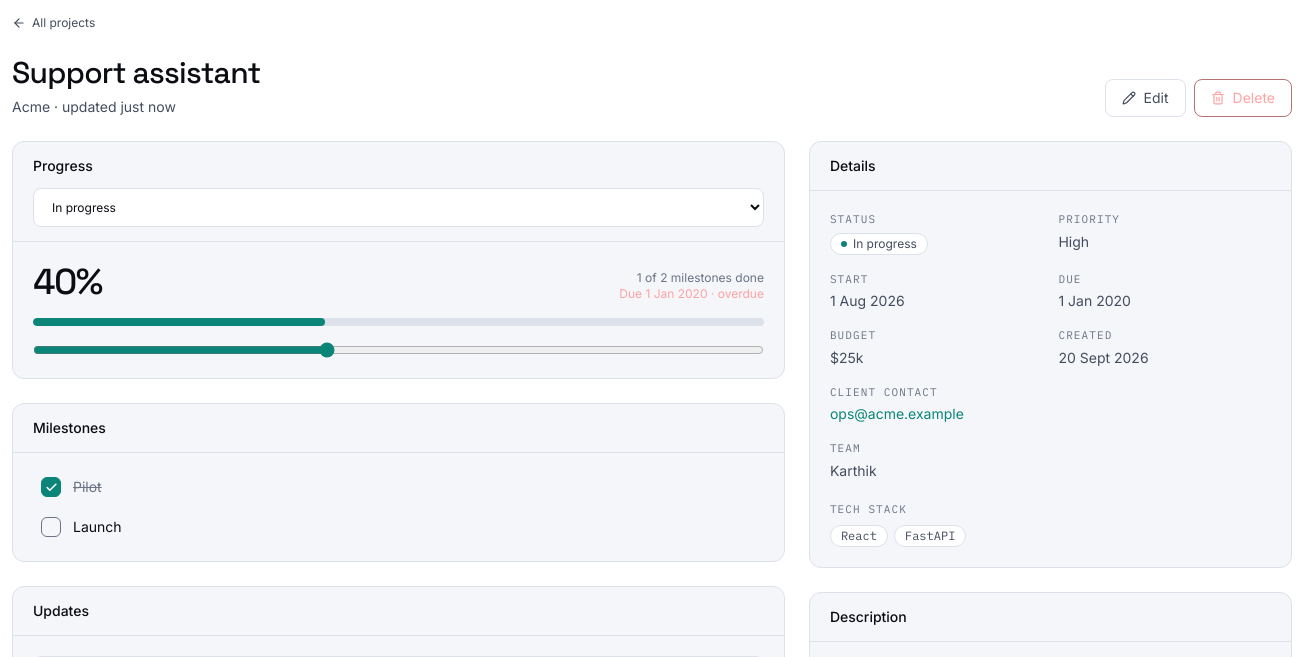
Test: admin projects › shows a project and toggles a milestone
Expected: the heading "Support assistant" is shown, [12, 55, 260, 91]
Expected: the text "1 of 2 milestones done" is shown, [619, 270, 764, 286]
What coordinates should you click on to do the following:
click the button "Launch"
I would click on:
 (97, 526)
Its box is [33, 509, 764, 545].
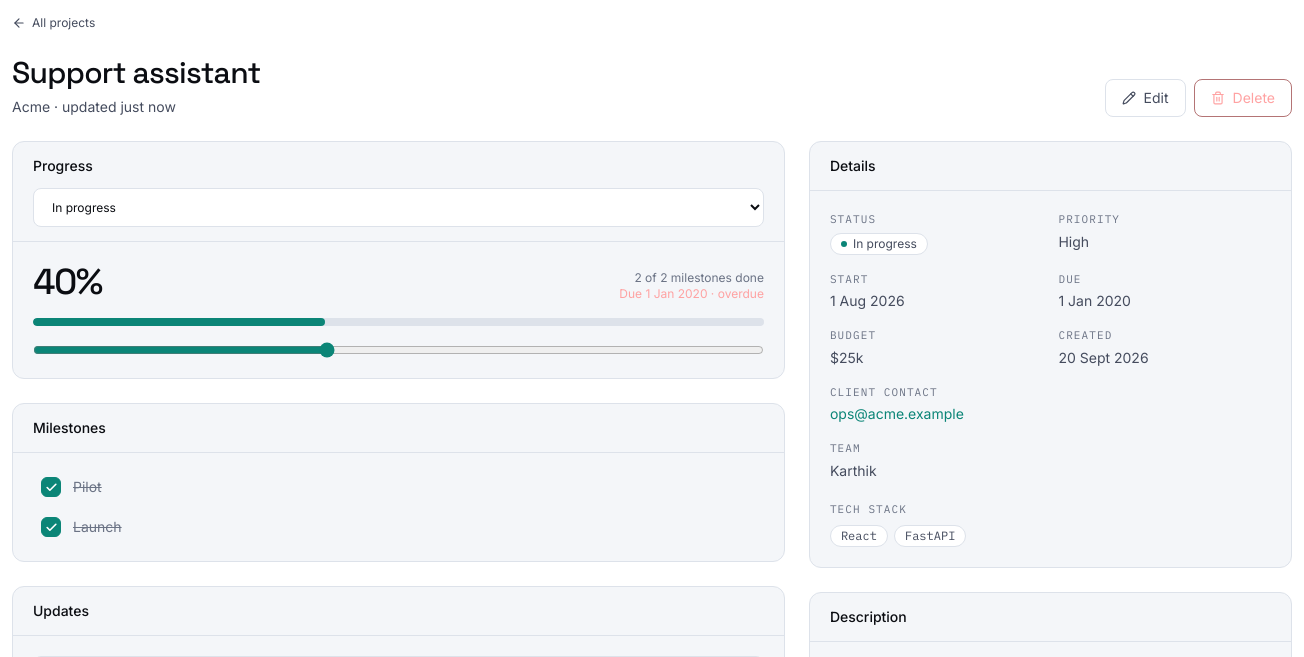
Now the text "2 of 2 milestones done" is shown, box [619, 270, 764, 286]
